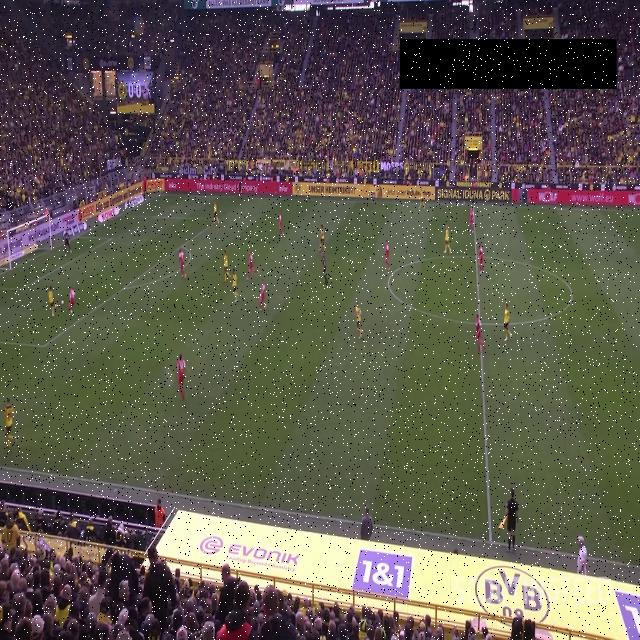Ball: (61, 300, 64, 306)
GoalKeeper: (63, 229, 72, 256)
Referee: (499, 487, 519, 552), (321, 252, 328, 285), (238, 180, 243, 198)
TEAM 1: (177, 354, 190, 401), (475, 313, 487, 355), (246, 251, 259, 281), (178, 249, 187, 280), (259, 279, 267, 312), (384, 240, 391, 270), (478, 243, 484, 275), (69, 285, 75, 317), (277, 211, 284, 238), (469, 207, 475, 234)
TEAM 2: (4, 397, 18, 450), (354, 300, 364, 340), (222, 249, 232, 284), (503, 303, 512, 341), (231, 267, 240, 303), (47, 286, 57, 318), (444, 225, 452, 255), (318, 224, 325, 254), (213, 201, 219, 225), (419, 188, 425, 211)
